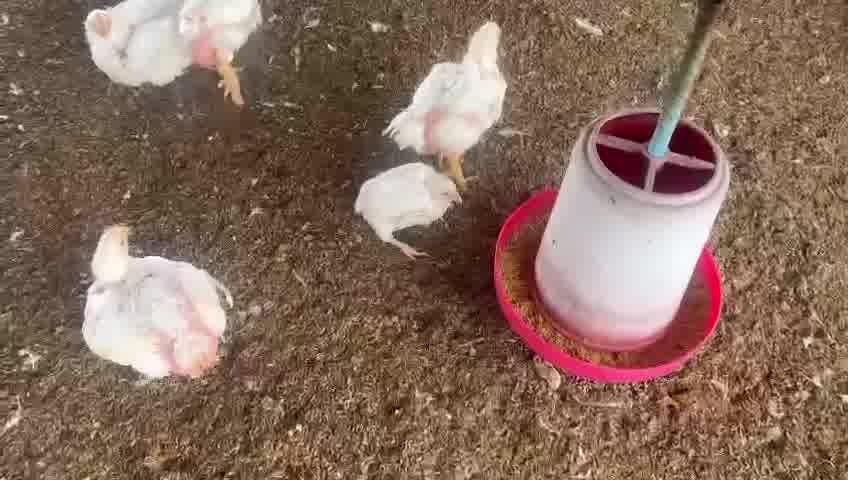AbNormal: (82, 220, 224, 379), (353, 163, 465, 257), (85, 3, 203, 86)
Normal: (401, 18, 507, 169), (182, 2, 264, 106)
